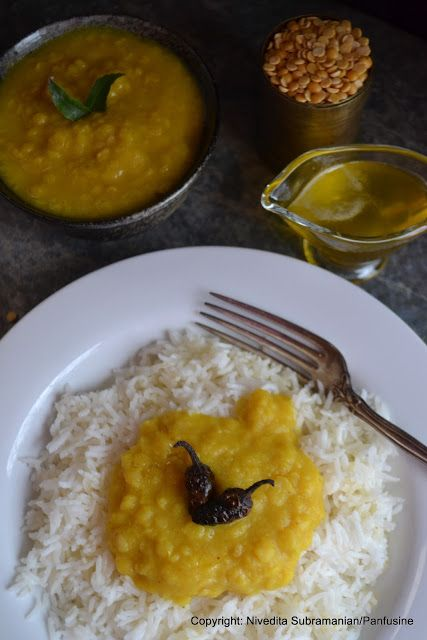plain rice: (35, 329, 398, 640)
